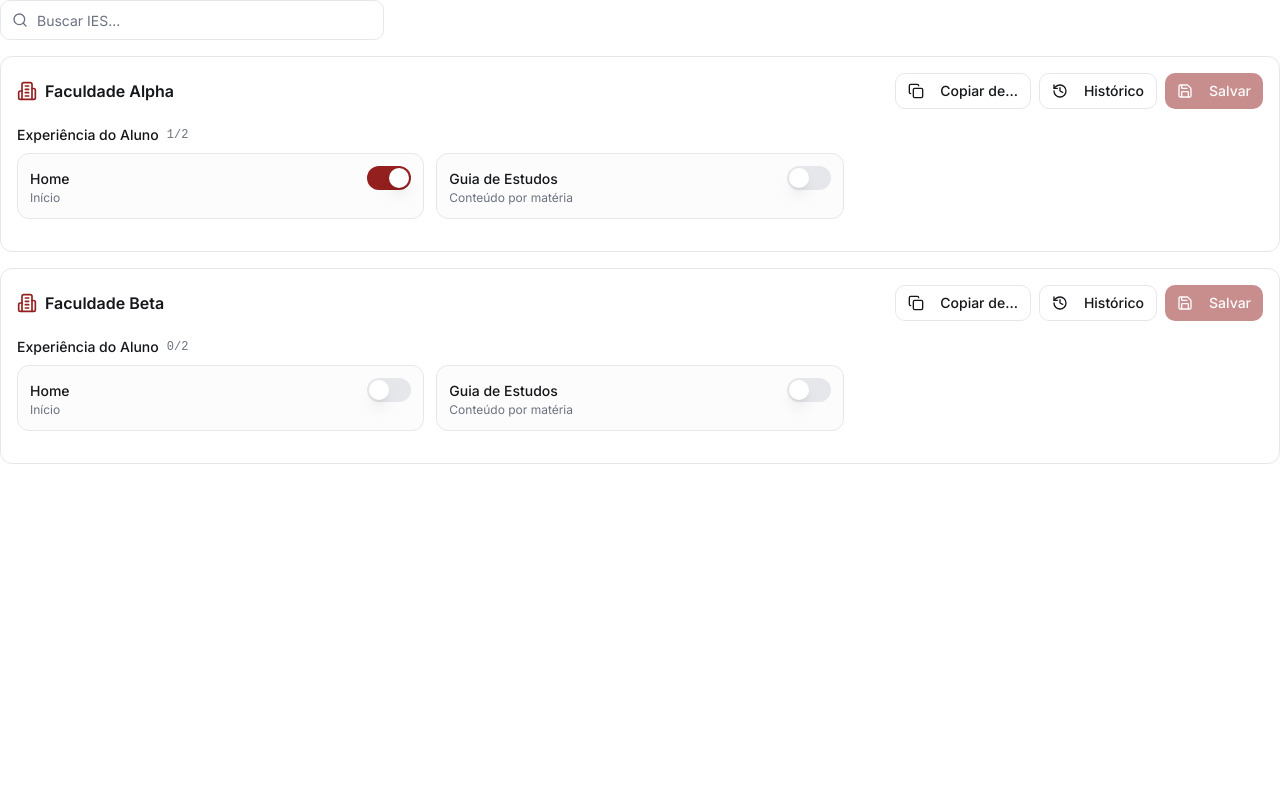
Test: IesFeaturesBoard › copiar-de: aplicar grava como pendência na IES destino (nunca chama setIesFeatures)
Later steps or results of the test are not shown.
Check: the text "Faculdade Beta" is shown, box [45, 291, 164, 315]
Click the button "Copiar de..." in the row of "Faculdade Beta" at coordinates (963, 303), box [895, 285, 1031, 321]
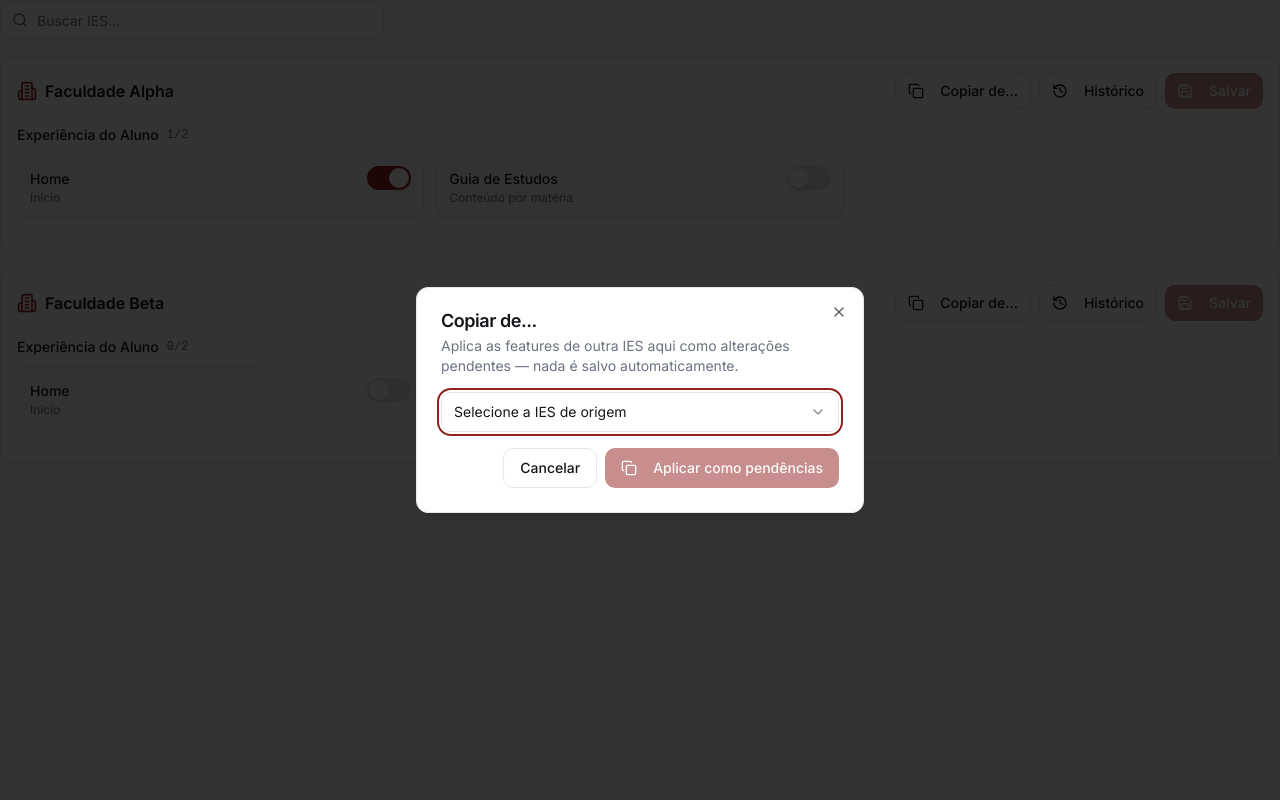
Click the dropdown at coordinates (540, 412), box [441, 392, 839, 432]
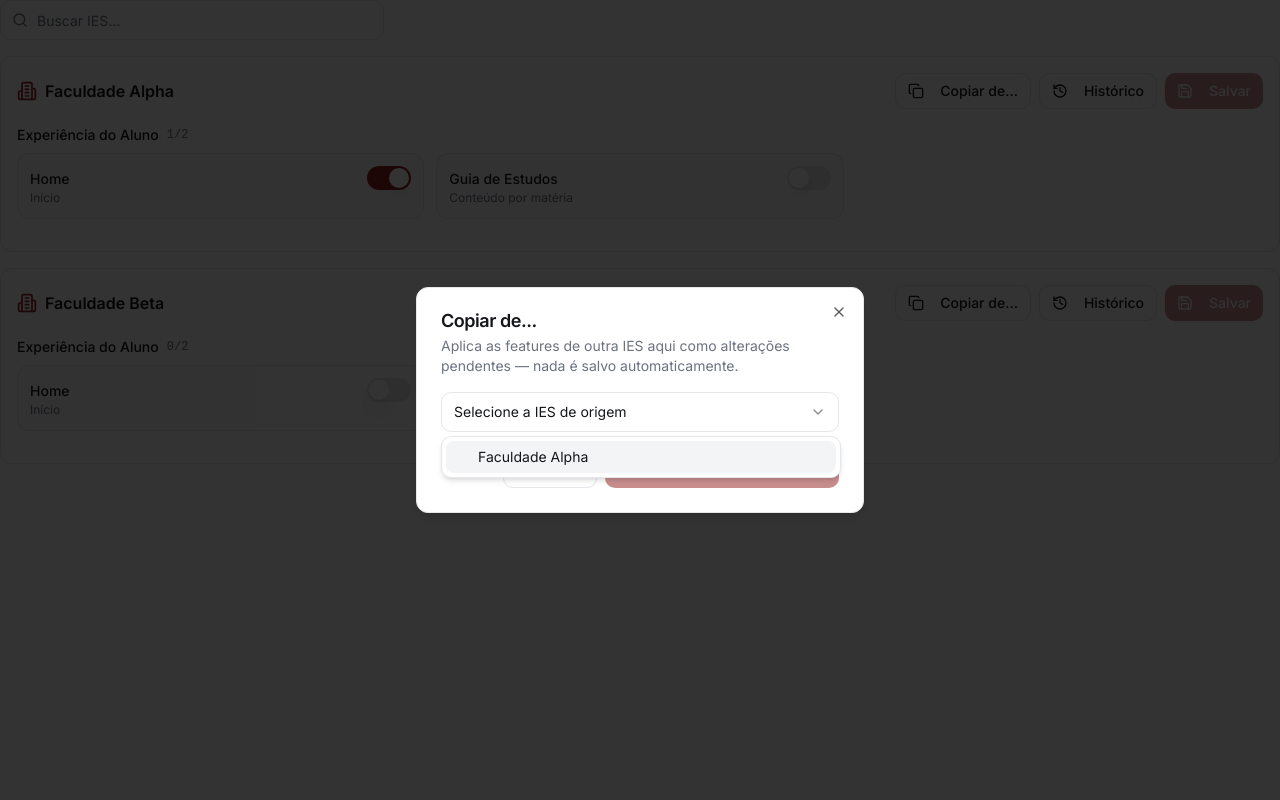
Click the option "Faculdade Alpha" at coordinates (533, 456), box [446, 441, 836, 473]
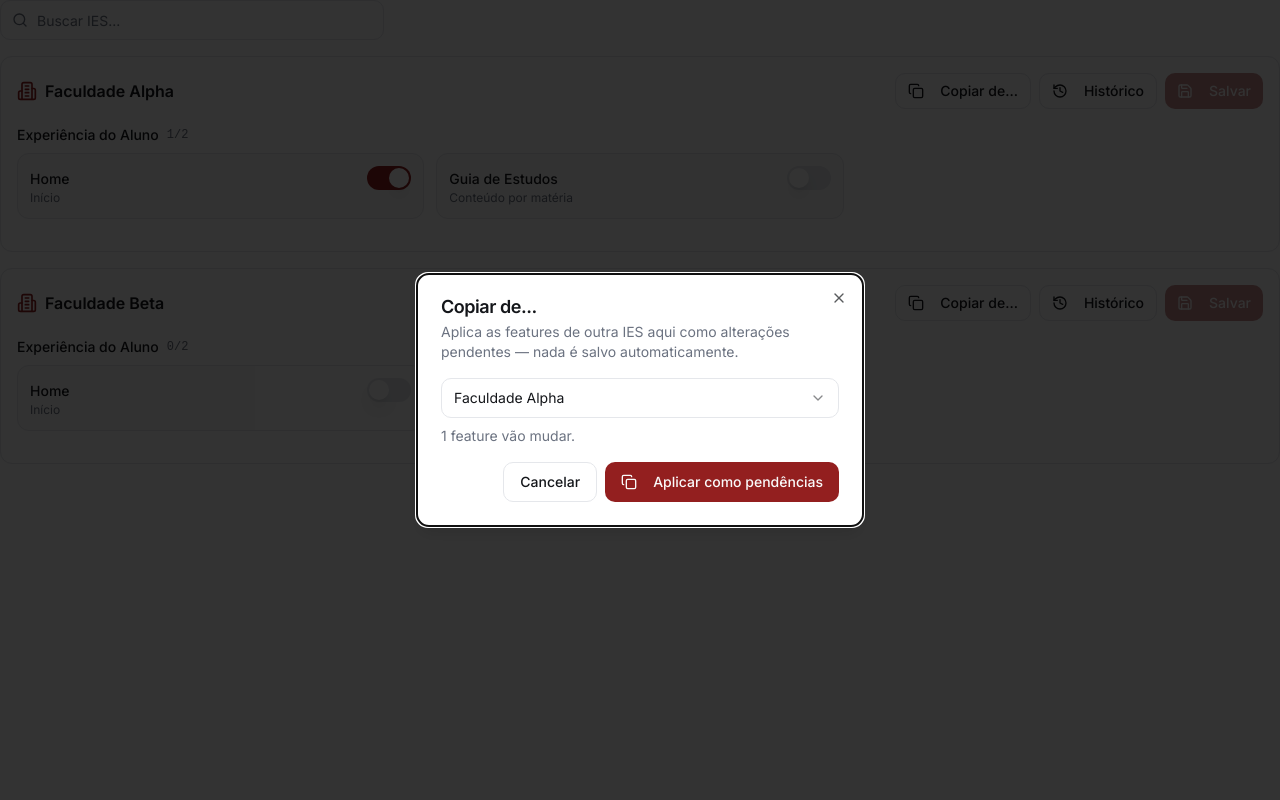
Check: the text "1 feature vão mudar." is shown, box [441, 427, 575, 444]
